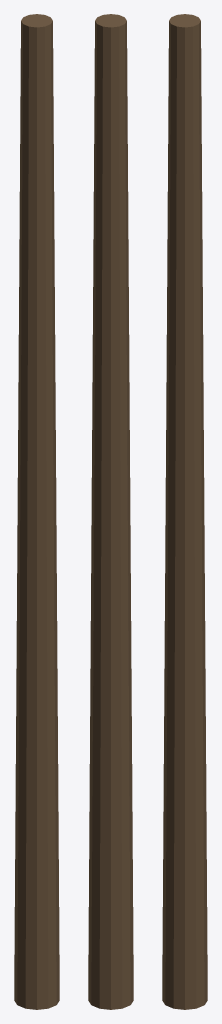
The model's file is utility-pole-plain.glb.
3 renders of one model, left to right at view 1: azimuth 90°, elevation 25°; view 2: azimuth 210°, elevation 25°; view 3: azimuth 270°, elevation 25°, orthographic.
Visible parts, largest first — view 1: utility-pole-plain; view 2: utility-pole-plain; view 3: utility-pole-plain.
Part boxes in pixels (box(x1,y1,x2,y2)): utility-pole-plain: box(14, 14, 59, 1009); utility-pole-plain: box(88, 14, 133, 1009); utility-pole-plain: box(162, 14, 207, 1009).
Bounding box in the file's own units: 0.38 × 9 × 0.38.
